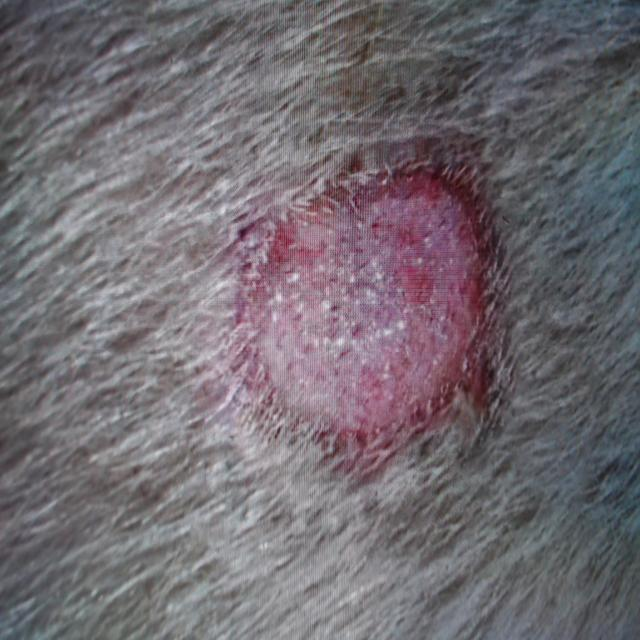ringworm: (223, 119, 519, 488)
